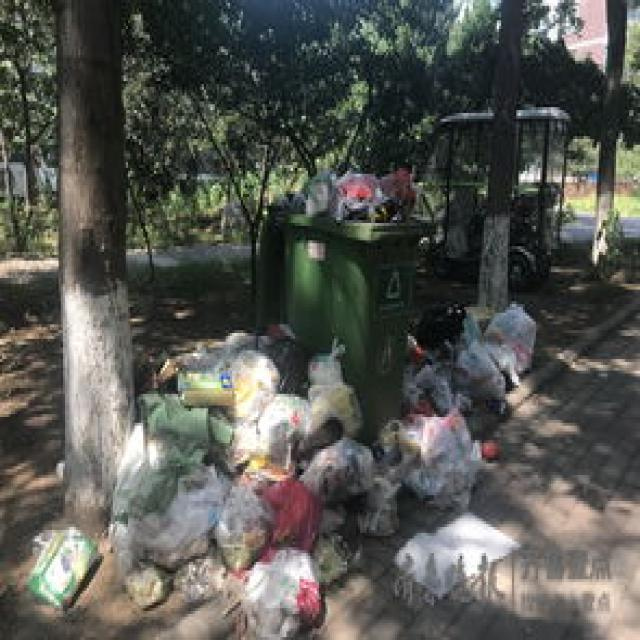garbage: (24, 298, 534, 637)
overflow: (278, 165, 432, 443)
